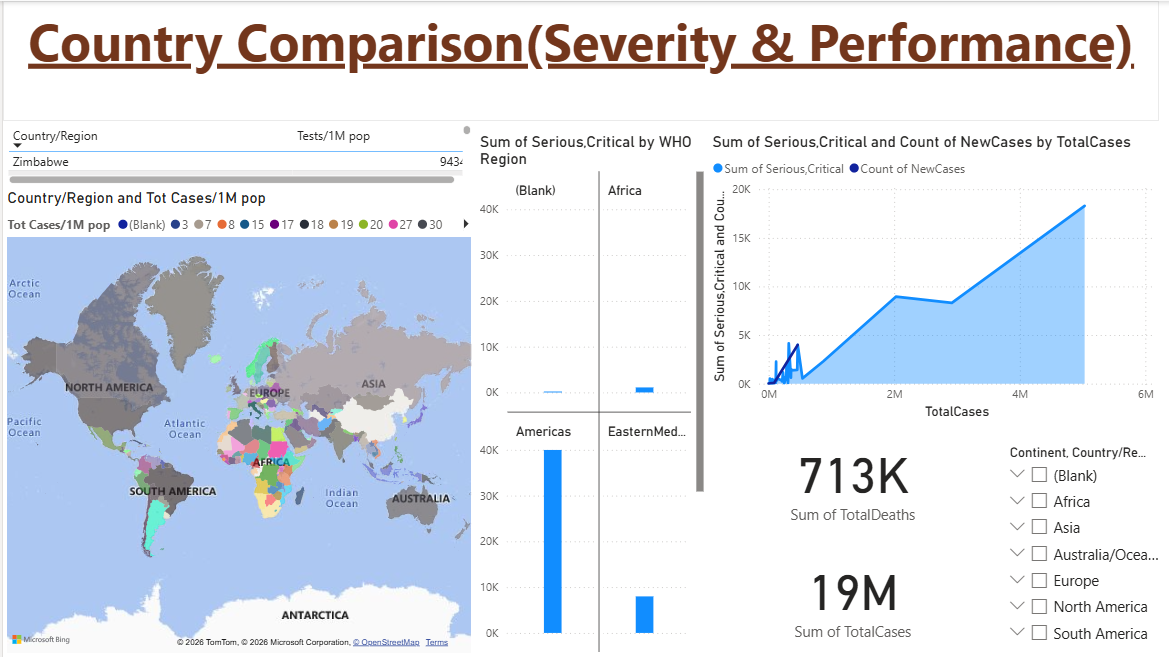

This screenshot's page, from the dashboard's own definition file:
{"tool":"powerbi","page":{"name":"Page 3","canvas":[1280,720],"ordinal":2},"visuals":[{"type":"textbox","box":[0,0,1269.3,131.7],"z":0},{"type":"filledMap","fields":{"Category":["population.Country/Region"],"Series":["population.Tot Cases/1M pop"]},"box":[0,205.8,518.7,514.6],"z":1000},{"type":"slicer","fields":{"Values":["population.Continent","population.Country/Region"]},"box":[1092.3,481.6,188,238.8],"z":2000},{"type":"tableEx","fields":{"Values":["population.Country/Region","population.Tests/1M pop"]},"box":[0,131.7,518.7,74.1],"z":3000},{"type":"lineClusteredColumnComboChart","fields":{"Rows":["population.WHO Region"],"Y":["Sum(population.Serious,Critical)"]},"box":[518.7,144.1,255.2,576.3],"z":4000},{"type":"stackedAreaChart","fields":{"Y":["Sum(population.Serious,Critical)","CountNonNull(population.NewCases)"],"Category":["population.TotalCases"]},"box":[773.9,144.1,495.4,319.7],"z":5000},{"type":"card","fields":{"Values":["Sum(population.TotalCases)"]},"box":[773.9,587.3,318.4,133.1],"z":6000},{"type":"card","fields":{"Values":["Sum(population.TotalDeaths)"]},"box":[773.9,463.8,318.4,123.5],"z":7000}]}

Visuals, with their boxes in screenshot pixels (x1, y1, x2, y2), scaled from the page's 1280x720 canvas onto the 1169x657 screenshot:
textbox: locate(0, 0, 1159, 120)
filledMap - population.Country/Region x population.Tot Cases/1M pop: locate(0, 188, 474, 656)
slicer - population.Continent x population.Country/Region: locate(998, 439, 1168, 656)
tableEx - population.Country/Region x population.Tests/1M pop: locate(0, 120, 474, 188)
lineClusteredColumnComboChart - population.WHO Region x Sum(population.Serious,Critical): locate(474, 131, 707, 656)
stackedAreaChart - Sum(population.Serious,Critical) x CountNonNull(population.NewCases): locate(707, 131, 1159, 423)
card - Sum(population.TotalCases): locate(707, 536, 998, 656)
card - Sum(population.TotalDeaths): locate(707, 423, 998, 536)
